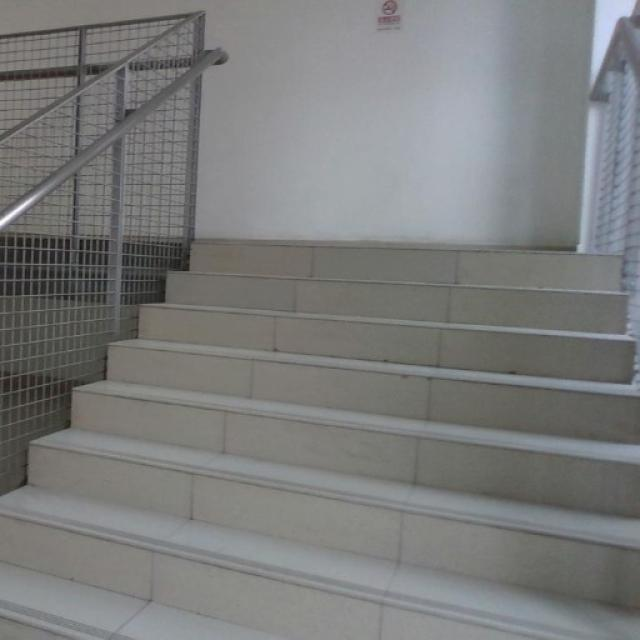stair: (40, 240, 640, 612)
